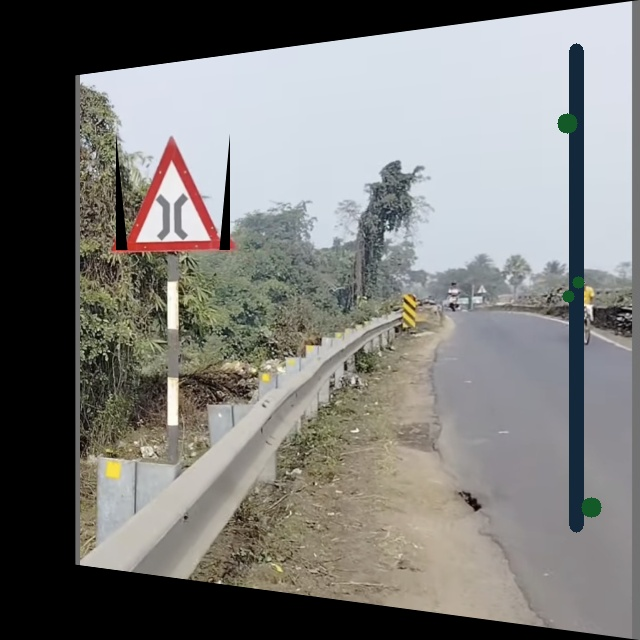Narrow_Bridge: (116, 133, 230, 250)
